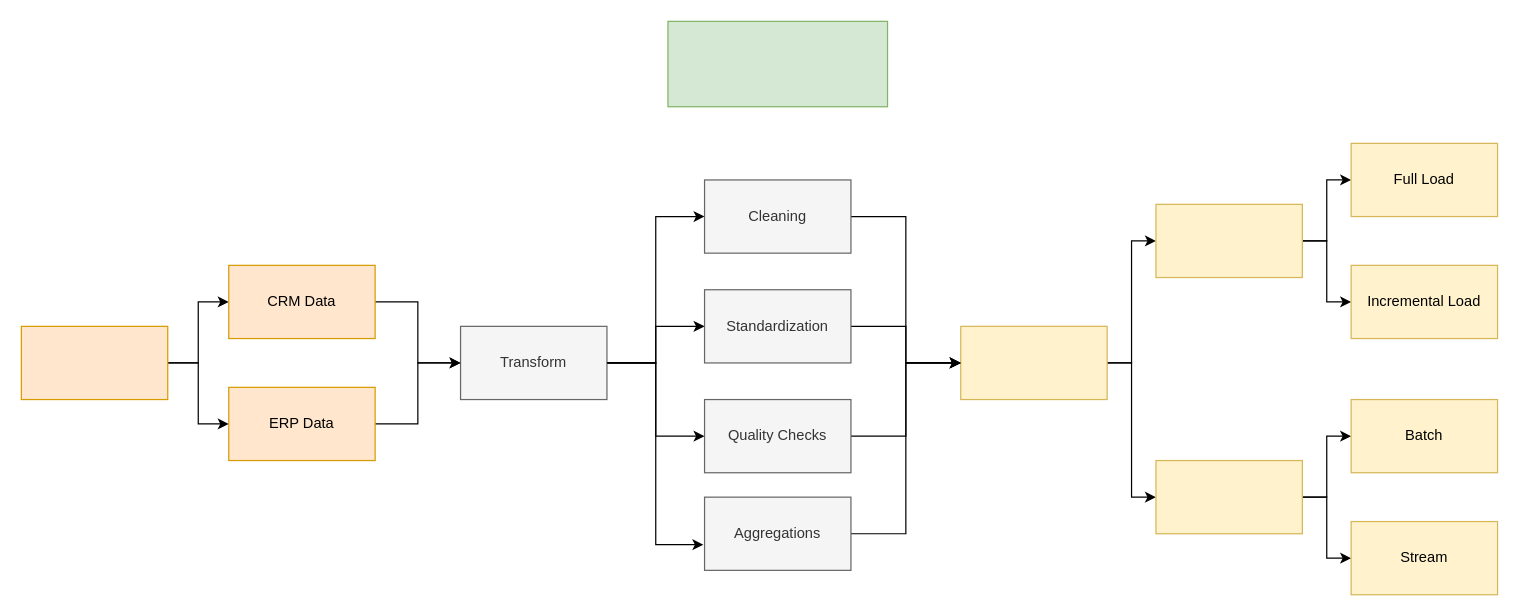
Image size: 1519x616. Some labels were removed from this diagram. The shapes that lost their labels are listed below. From the top down, each one's box as (x1, y1, x2, y2) in pixels, then its label:
(667, 20, 888, 107): ETL Flow
(1155, 203, 1302, 278): Load Methods
(20, 325, 168, 400): Extract
(960, 325, 1107, 400): Load
(1155, 459, 1302, 534): Processing
